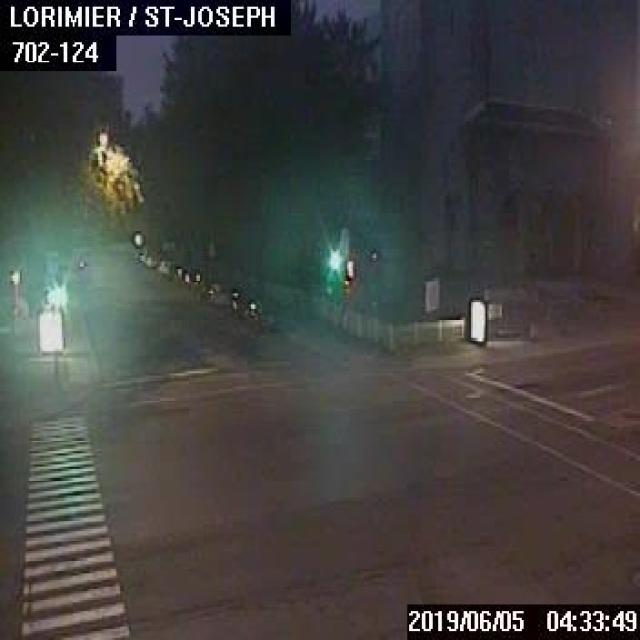vehicle: (242, 298, 275, 327), (204, 282, 230, 303), (156, 258, 170, 272)
